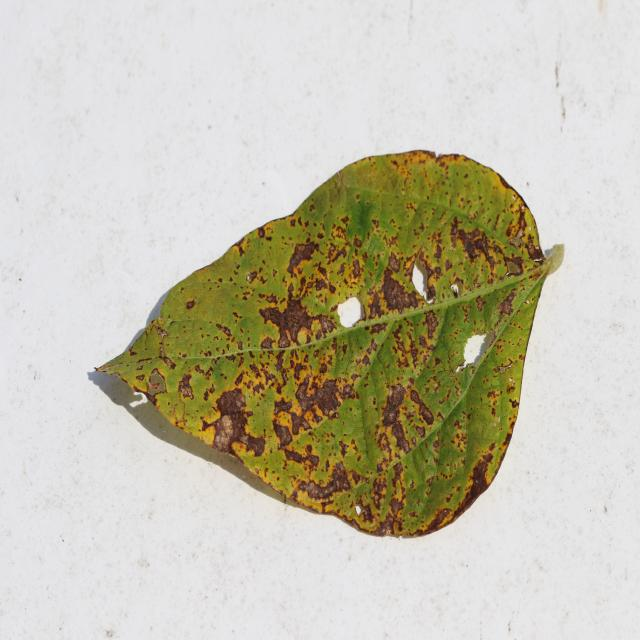Bacterial_Blight: (204, 387, 260, 459), (386, 323, 434, 384), (339, 328, 386, 385), (377, 266, 424, 316), (451, 223, 495, 269), (304, 460, 351, 499), (276, 298, 316, 343), (284, 230, 321, 278), (304, 377, 345, 420), (259, 303, 293, 343), (408, 386, 435, 426), (247, 359, 277, 394), (467, 454, 492, 493), (215, 387, 248, 416), (388, 419, 413, 454), (383, 382, 407, 415), (310, 313, 336, 339), (288, 409, 312, 437), (523, 234, 546, 263), (273, 419, 294, 449), (146, 368, 168, 396), (372, 513, 398, 536), (485, 386, 504, 417), (496, 292, 516, 319), (450, 424, 467, 454), (177, 372, 195, 400), (367, 289, 383, 319), (503, 255, 524, 276), (424, 311, 439, 339), (293, 362, 310, 384), (356, 503, 374, 523), (386, 250, 401, 273), (274, 349, 289, 372), (273, 398, 291, 416), (285, 447, 304, 464), (507, 236, 526, 252), (485, 329, 498, 350), (216, 323, 234, 338), (389, 497, 404, 515), (161, 352, 176, 370), (200, 417, 217, 432), (203, 382, 216, 401), (350, 258, 361, 278), (260, 337, 275, 351), (475, 295, 486, 313), (506, 378, 517, 394), (245, 270, 258, 283), (155, 326, 168, 339), (194, 363, 205, 376), (508, 397, 519, 409), (185, 299, 196, 310), (232, 311, 243, 322), (257, 226, 266, 238), (136, 374, 145, 383), (129, 348, 137, 357), (237, 340, 244, 350), (272, 268, 278, 278)
Soybean: (98, 151, 563, 535)
